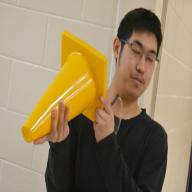cone: (22, 31, 108, 143)
